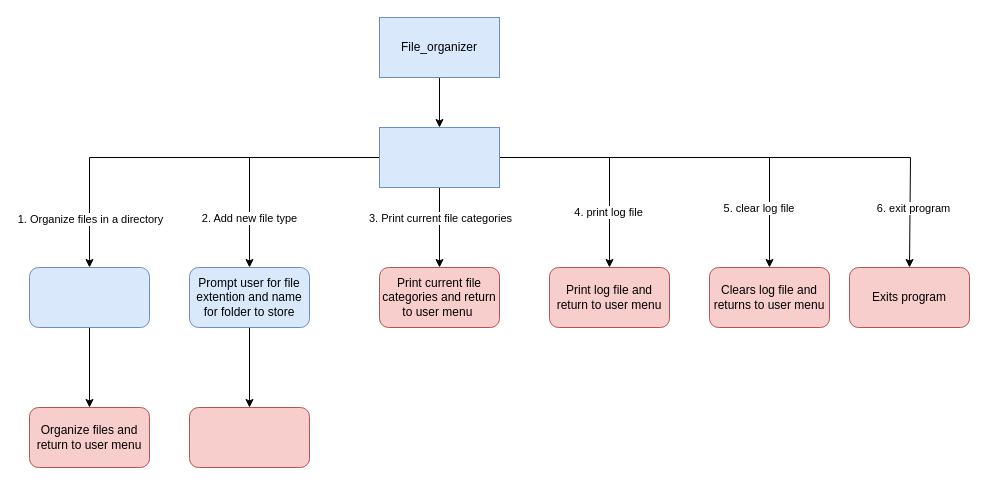
The diagram is 987 pixels wide and 485 high, and some of its shapes have lost their labels. The shapes that lost their labels are listed below. From the top down, each one's centre as x and y in pixels, then its label:
At (x=439, y=157): "User interface".
At (x=89, y=297): "Prompt user for directory".
At (x=249, y=437): "Print updated file categories and return to user meny".
